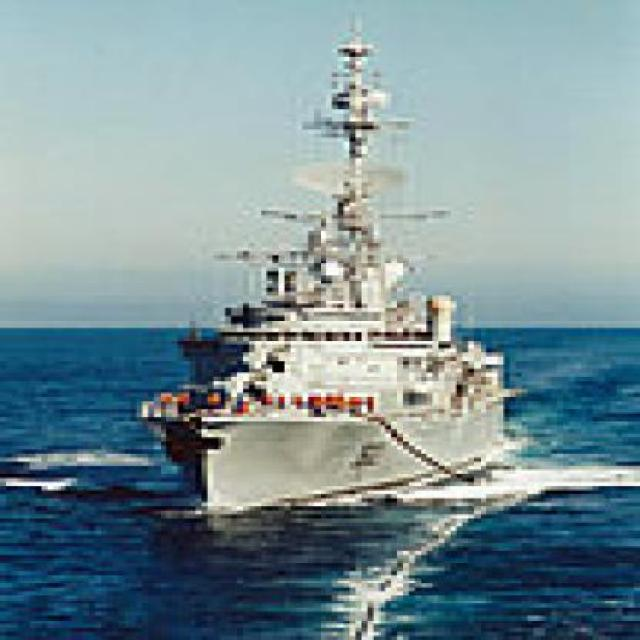warship2: (120, 9, 523, 548)
